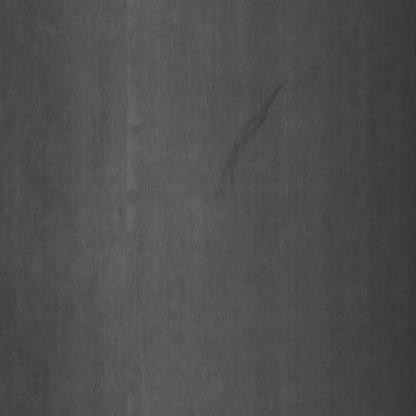water_spot: (222, 73, 282, 195)
